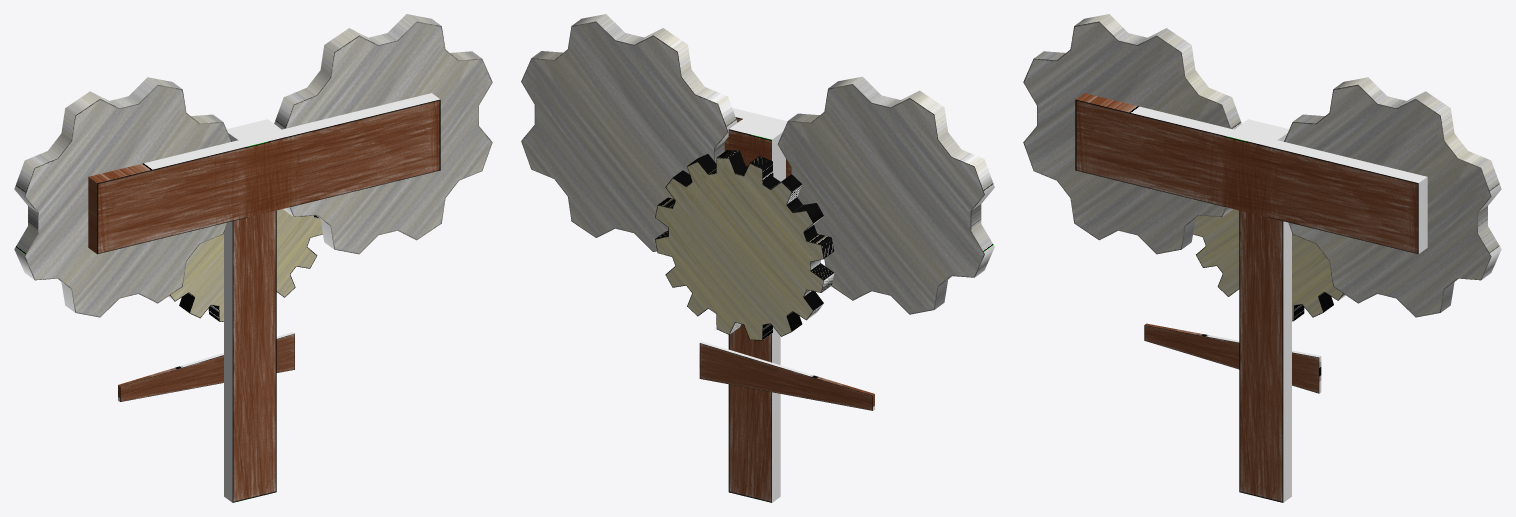
File: Gear_03-2.FBX
3 renders of one model, left to right at view 1: azimuth 30°, elevation 25°; view 2: azimuth 150°, elevation 25°; view 3: azimuth 330°, elevation 25°, orthographic.
Parts seen in each view (by area): view 1: Box003, Star004, Star005, Star006, Box004; view 2: Star004, Star005, Star006, Box003, Box004; view 3: Box003, Star005, Star004, Star006, Box004.
Part boxes in pixels (bbox=[...]): Box003: bbox=[88, 93, 440, 502]; Star004: bbox=[14, 77, 231, 317]; Star005: bbox=[274, 14, 492, 254]; Star006: bbox=[168, 209, 322, 321]; Box004: bbox=[118, 332, 294, 401]; Star004: bbox=[777, 76, 994, 314]; Star005: bbox=[521, 14, 737, 251]; Star006: bbox=[655, 150, 834, 340]; Box003: bbox=[724, 108, 791, 502]; Box004: bbox=[699, 341, 874, 410]; Box003: bbox=[1075, 93, 1427, 502]; Star005: bbox=[1284, 77, 1501, 317]; Star004: bbox=[1023, 14, 1241, 254]; Star006: bbox=[1193, 209, 1345, 321]; Box004: bbox=[1144, 323, 1321, 393].
Size of the model in its own units: 102 by 91.74 by 13.35.
4 materials, 4 textured.
